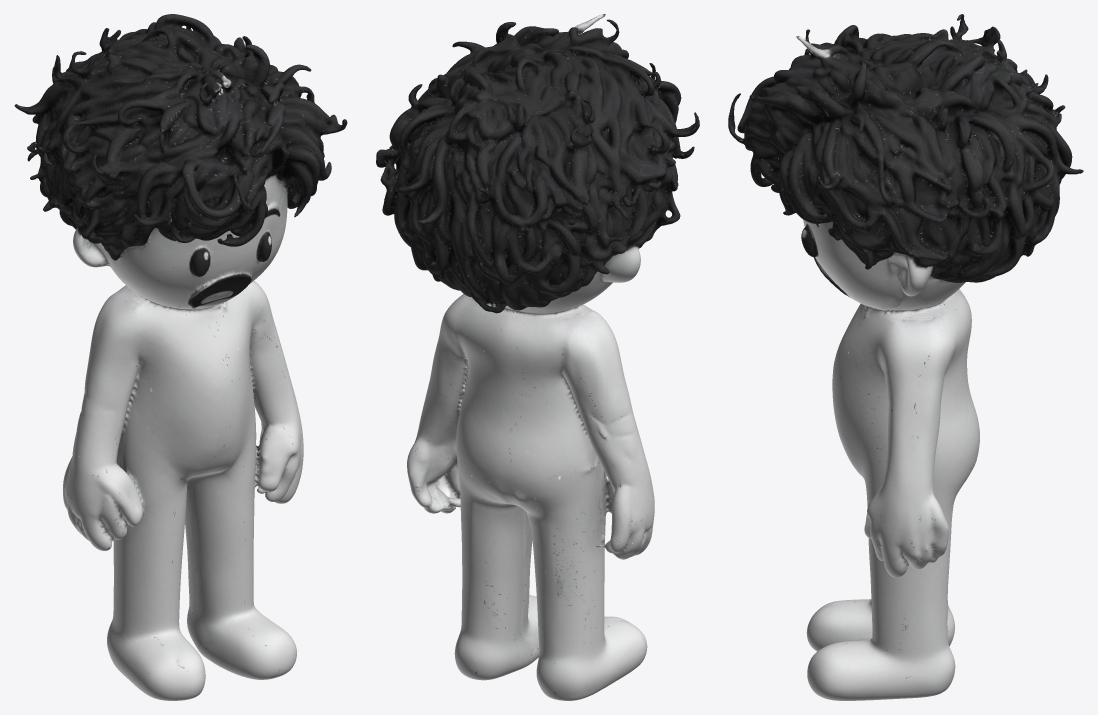
The model's file is boyChar_shocked.glb.
3 renders of one model, left to right at view 1: azimuth 30°, elevation 25°; view 2: azimuth 150°, elevation 25°; view 3: azimuth 270°, elevation 25°, orthographic.
Parts seen in each view (by area): view 1: Char_Boy_Shocked; view 2: Char_Boy_Shocked; view 3: Char_Boy_Shocked.
Boxes of the visible parts, x1=… form: Char_Boy_Shocked: x1=14, y1=14, x2=347, y2=700; Char_Boy_Shocked: x1=376, y1=14, x2=699, y2=700; Char_Boy_Shocked: x1=728, y1=14, x2=1083, y2=700.
Bounding box in the file's own units: 0.522 × 1.2 × 0.6159.
1 material, 1 textured.
